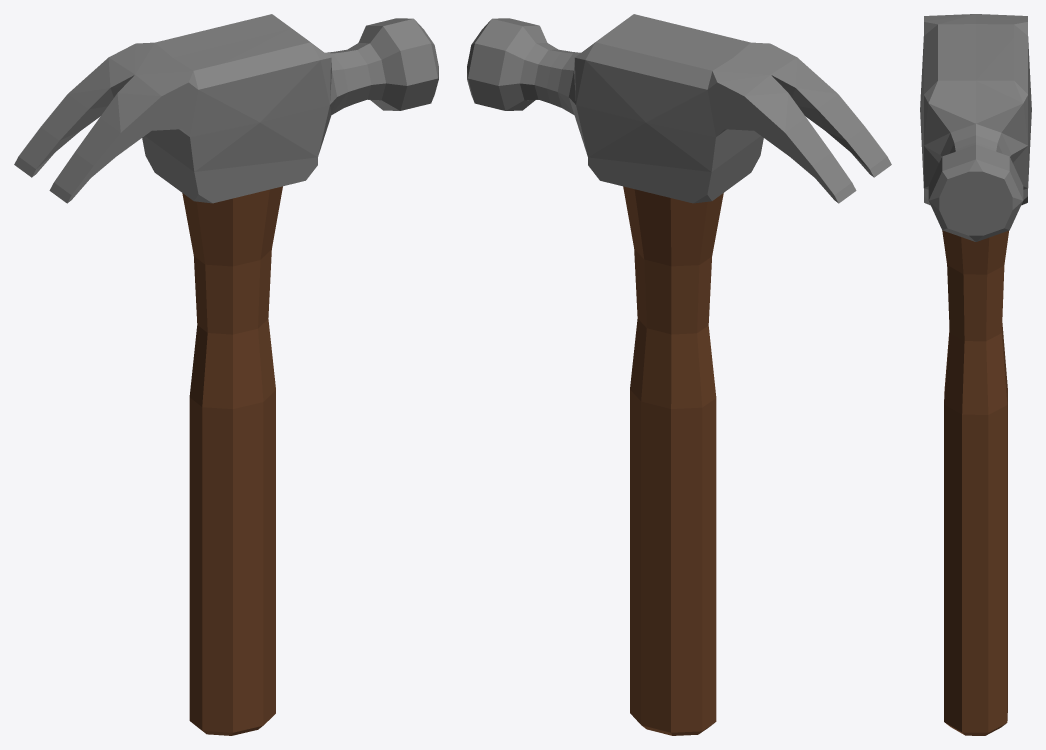
File: Hammer.fbx
The picture shows the model from 3 angles, left to right: view 1: azimuth 30°, elevation 25°; view 2: azimuth 150°, elevation 25°; view 3: azimuth 270°, elevation 25°; orthographic projection.
Parts seen in each view (by area): view 1: Cylinder; view 2: Cylinder; view 3: Cylinder.
Boxes of the visible parts, x1,y1,x2,y2 form: Cylinder: [14, 14, 438, 735]; Cylinder: [467, 14, 891, 735]; Cylinder: [920, 14, 1031, 735].
Bounding box in the file's own units: 28.93 × 49.59 × 7.52.
